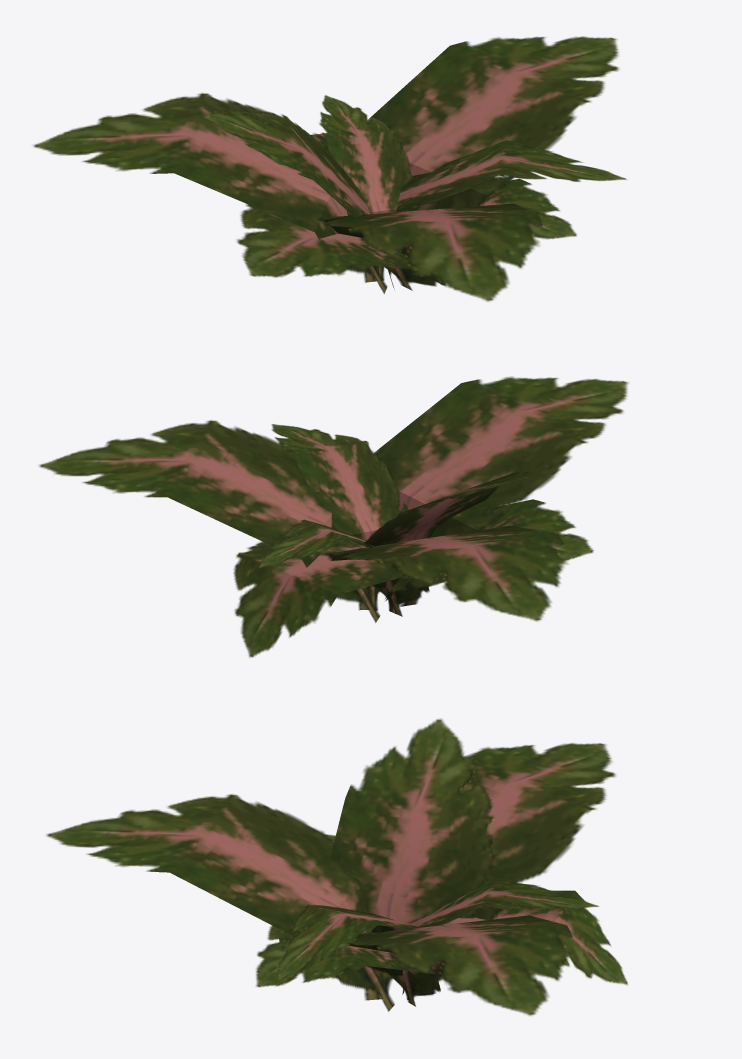
File: lp_grass_tuft_b.glb
The picture shows the model from 3 angles, top to bottom: view 1: azimuth 30°, elevation 25°; view 2: azimuth 150°, elevation 25°; view 3: azimuth 270°, elevation 25°; orthographic projection. The views are drawn at different scales.
Visible parts, largest first — view 1: lp_grass_tuft_b; view 2: lp_grass_tuft_b; view 3: lp_grass_tuft_b.
Boxes of the visible parts, left/top/right/bottom form: lp_grass_tuft_b: left=33, top=36, right=626, bottom=301; lp_grass_tuft_b: left=39, top=376, right=628, bottom=657; lp_grass_tuft_b: left=46, top=718, right=627, bottom=1015.
Size of the model in its own units: 0.6673 by 0.1944 by 0.6397.
1 material, 1 textured.
